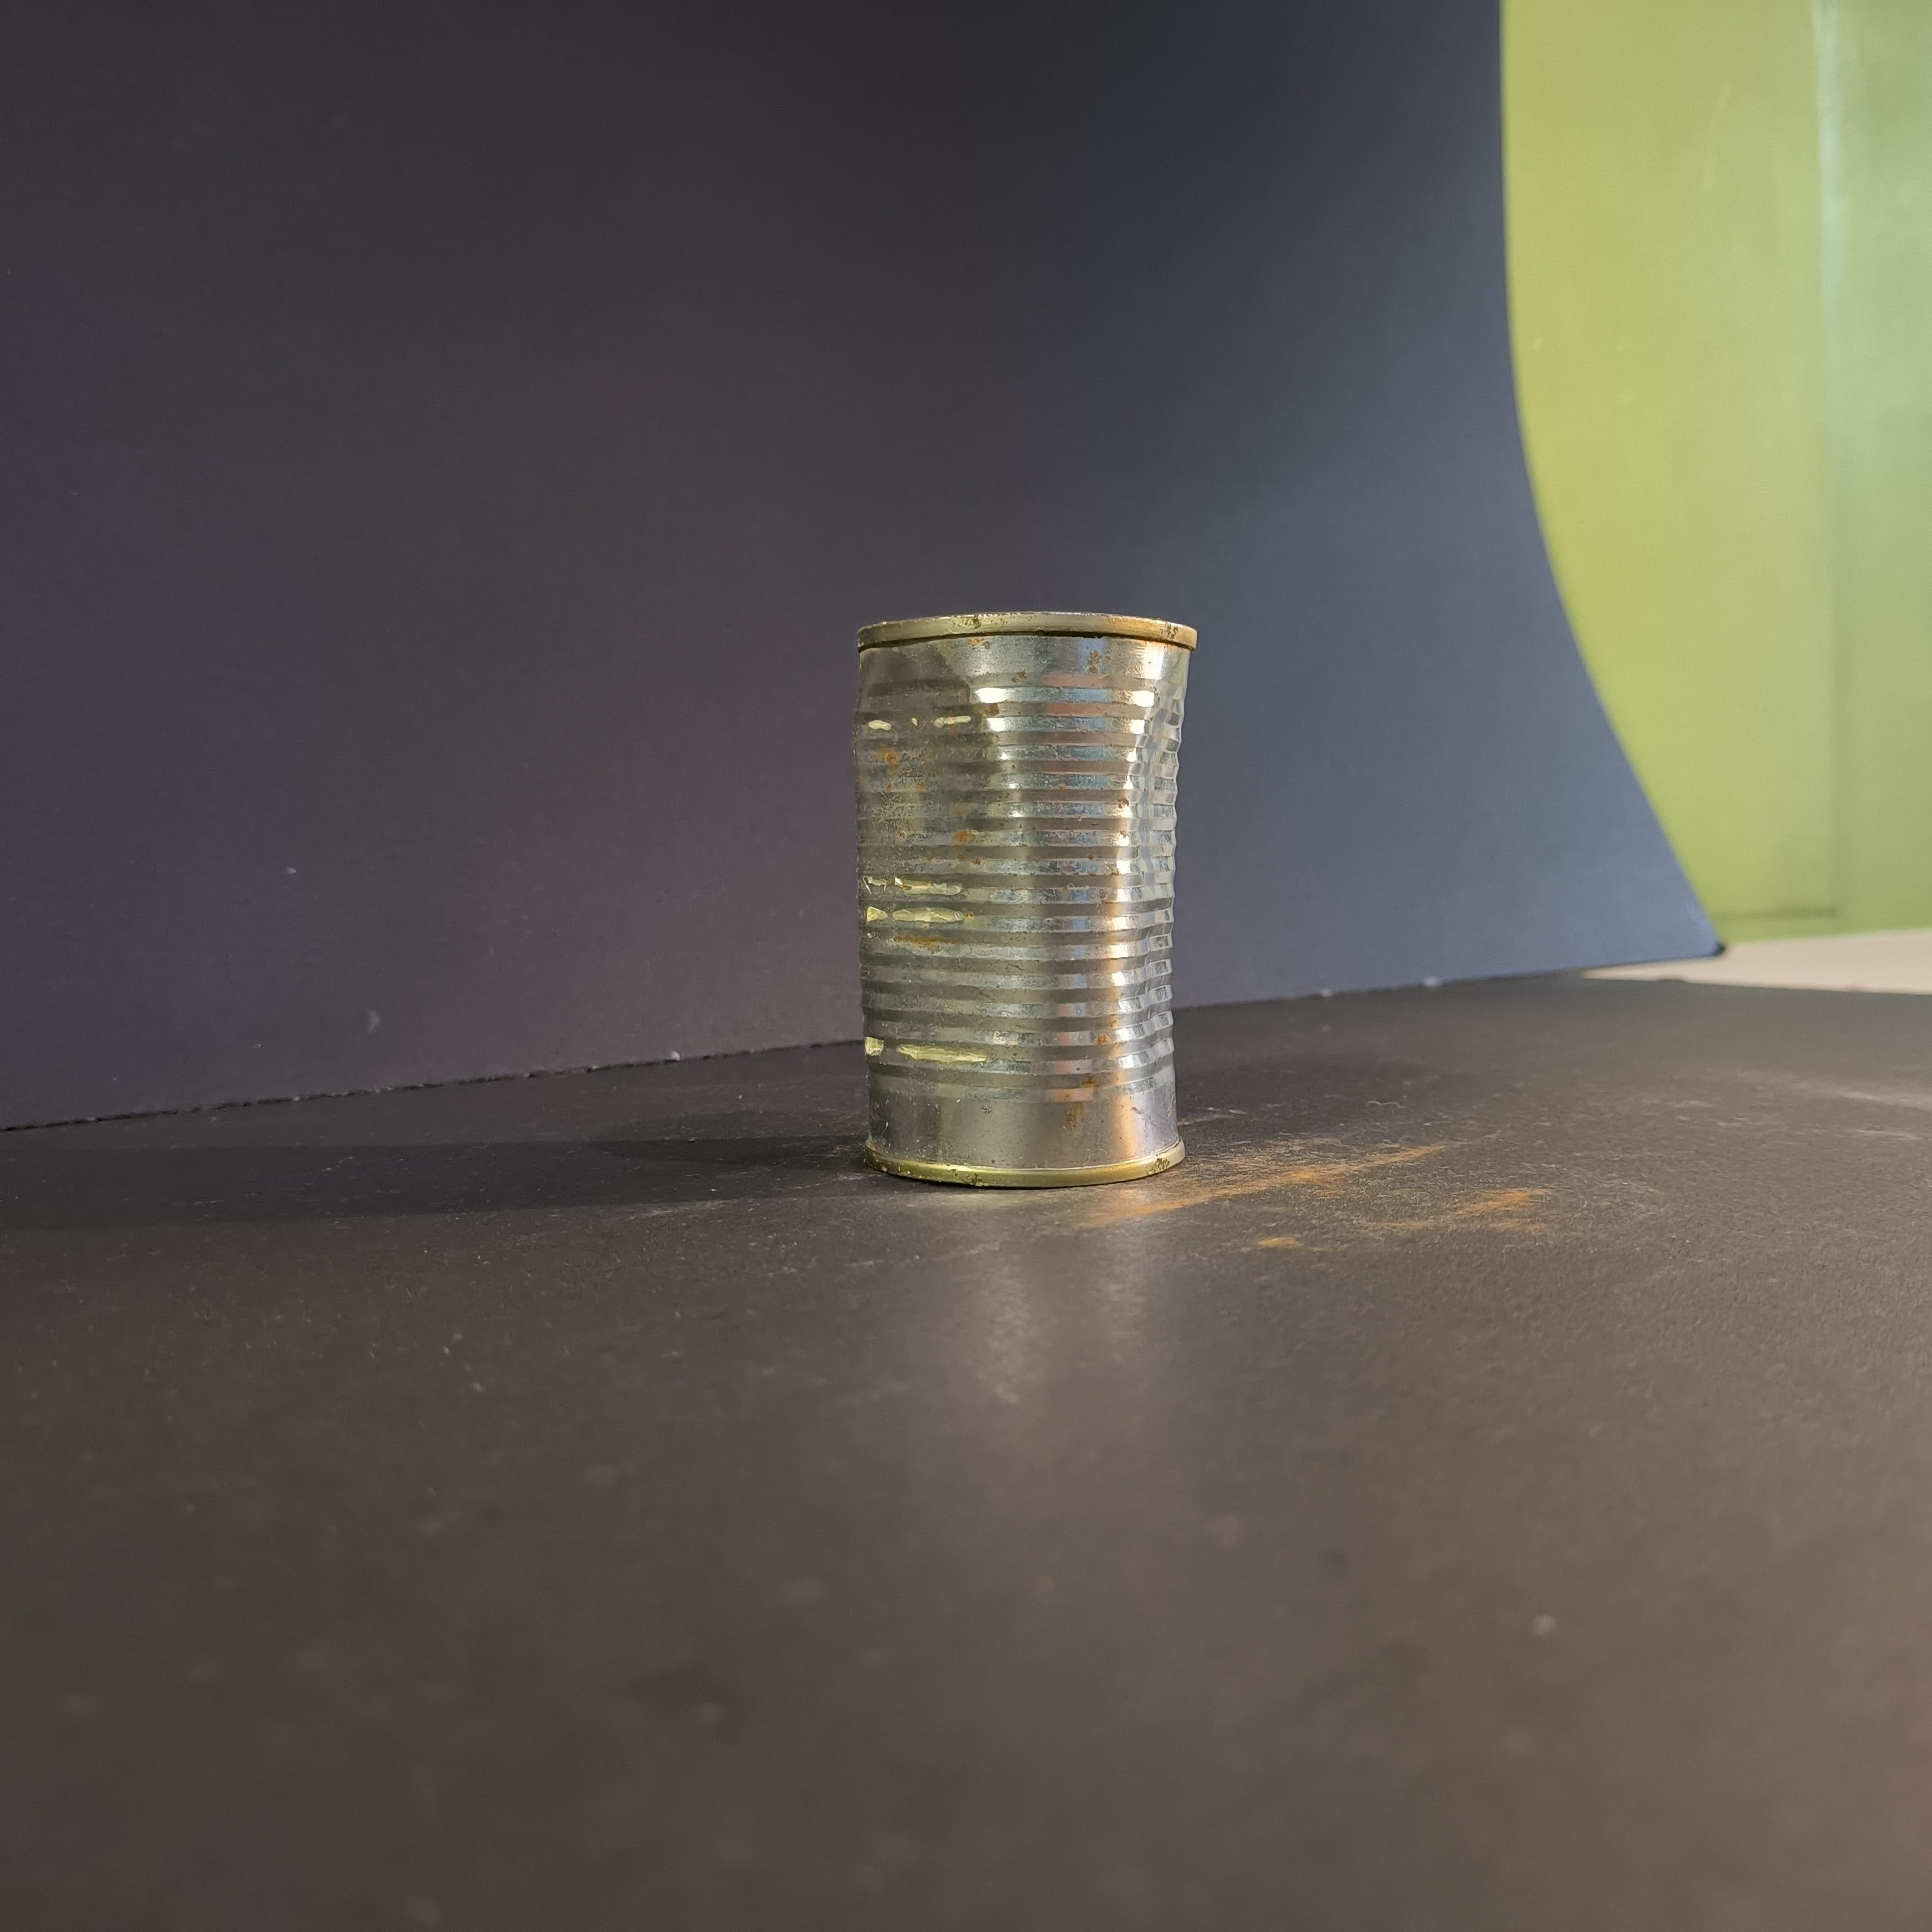Dented: (812, 584, 1238, 1228)
